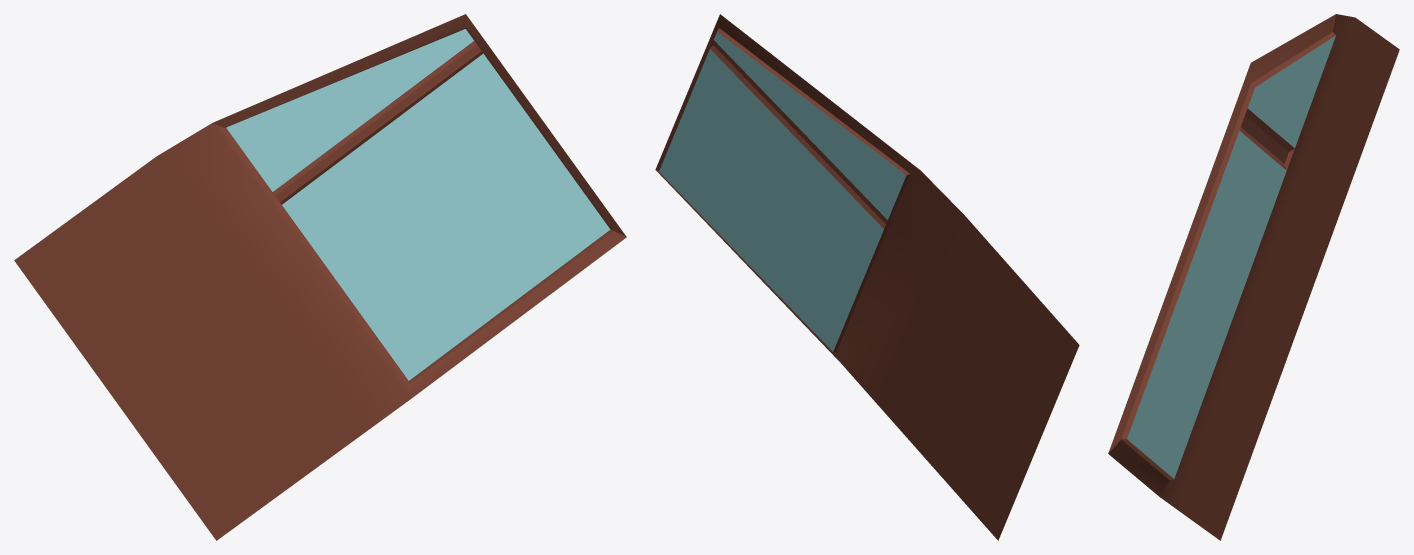
Rendered from Dashboard.fbx.
3 views of the same model, side by side, from view 1: azimuth 30°, elevation 25°; view 2: azimuth 150°, elevation 25°; view 3: azimuth 270°, elevation 25° (orthographic). The views are drawn at different scales.
Visible parts, largest first — view 1: TruckBody.002; view 2: TruckBody.002; view 3: TruckBody.002.
Part boxes in pixels (x1=…): TruckBody.002: x1=14, y1=14, x2=626, y2=540; TruckBody.002: x1=655, y1=14, x2=1079, y2=540; TruckBody.002: x1=1108, y1=14, x2=1399, y2=540.
Size of the model in its own units: 215 by 72.97 by 183.
